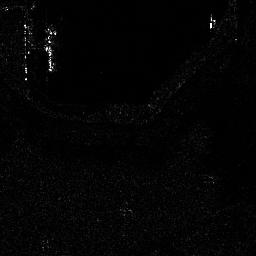ship: (20, 18, 32, 82), (43, 22, 58, 72)
